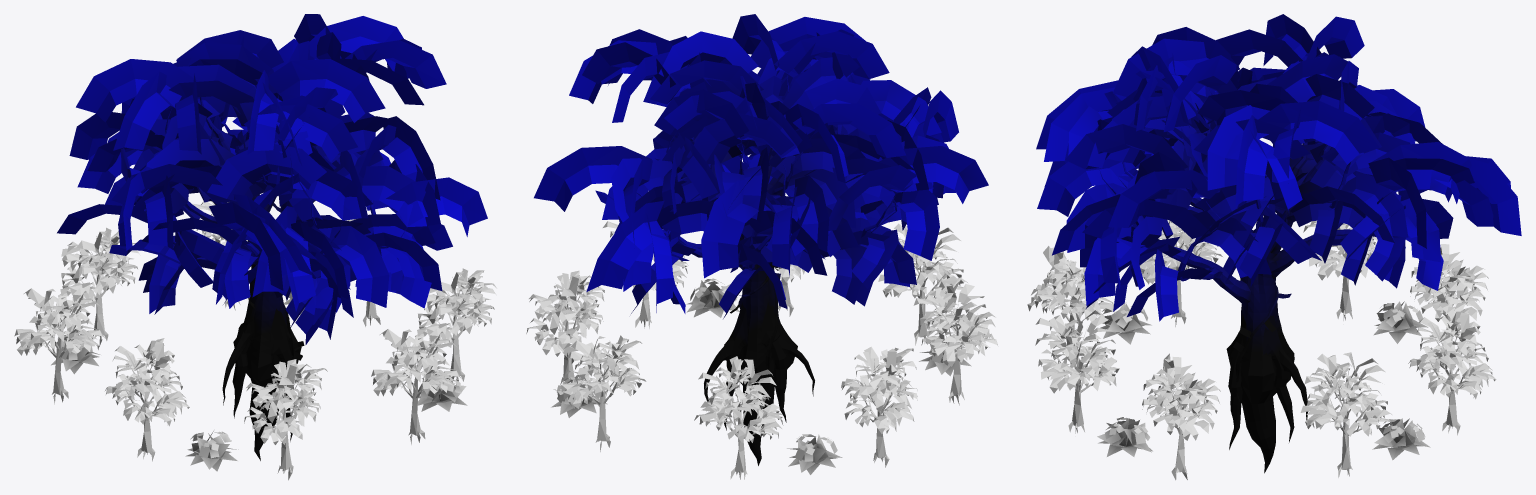
Rendered from STA_59.fbx.
The picture shows the model from 3 angles, left to right: view 1: azimuth 30°, elevation 25°; view 2: azimuth 150°, elevation 25°; view 3: azimuth 270°, elevation 25°; orthographic projection. The views are drawn at different scales.
Parts seen in each view (by area): view 1: STA_59; view 2: STA_59; view 3: STA_59.
Part boxes in pixels (<box>): STA_59: <box>14,14,496,480</box>; STA_59: <box>526,14,997,479</box>; STA_59: <box>1027,14,1521,480</box>.
Bounding box in the file's own units: 4573 × 4669 × 4881.
